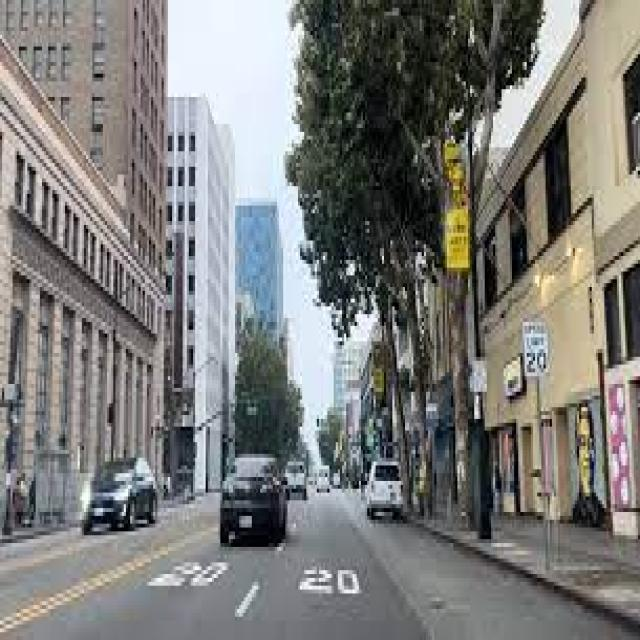speedLimit20: (521, 314, 549, 380)
